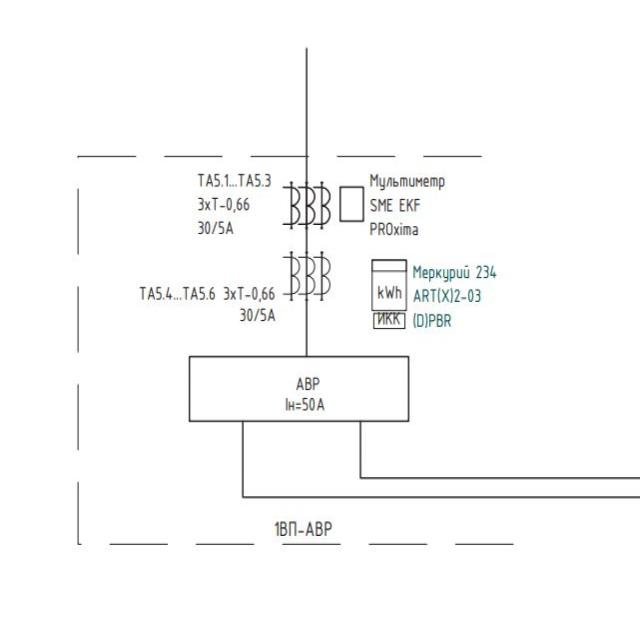-: (408, 258, 501, 336), (368, 168, 452, 240), (192, 192, 260, 240), (220, 282, 276, 324), (281, 374, 328, 412), (273, 518, 335, 538)
AVR: (186, 352, 410, 422)
PM: (337, 182, 369, 226)
TT: (278, 248, 332, 304), (280, 180, 332, 236)
WH: (369, 257, 409, 313)
